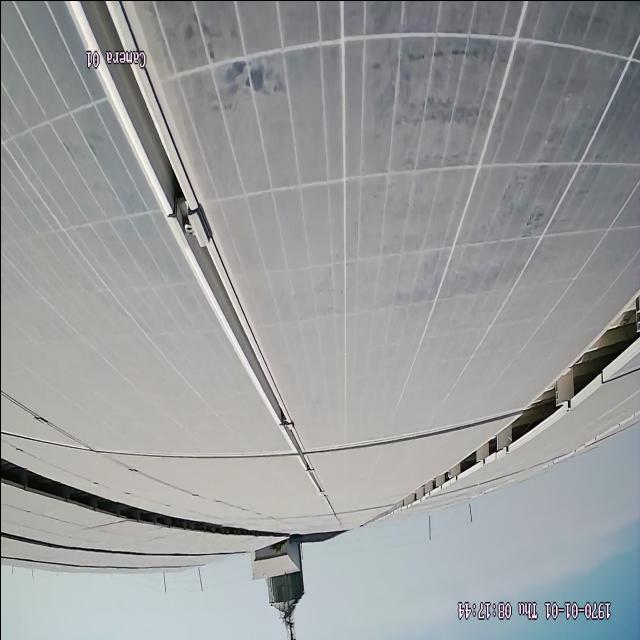interior panel: (71, 15, 332, 502), (3, 416, 478, 472)
outher panel: (386, 285, 634, 513), (5, 452, 253, 535)
